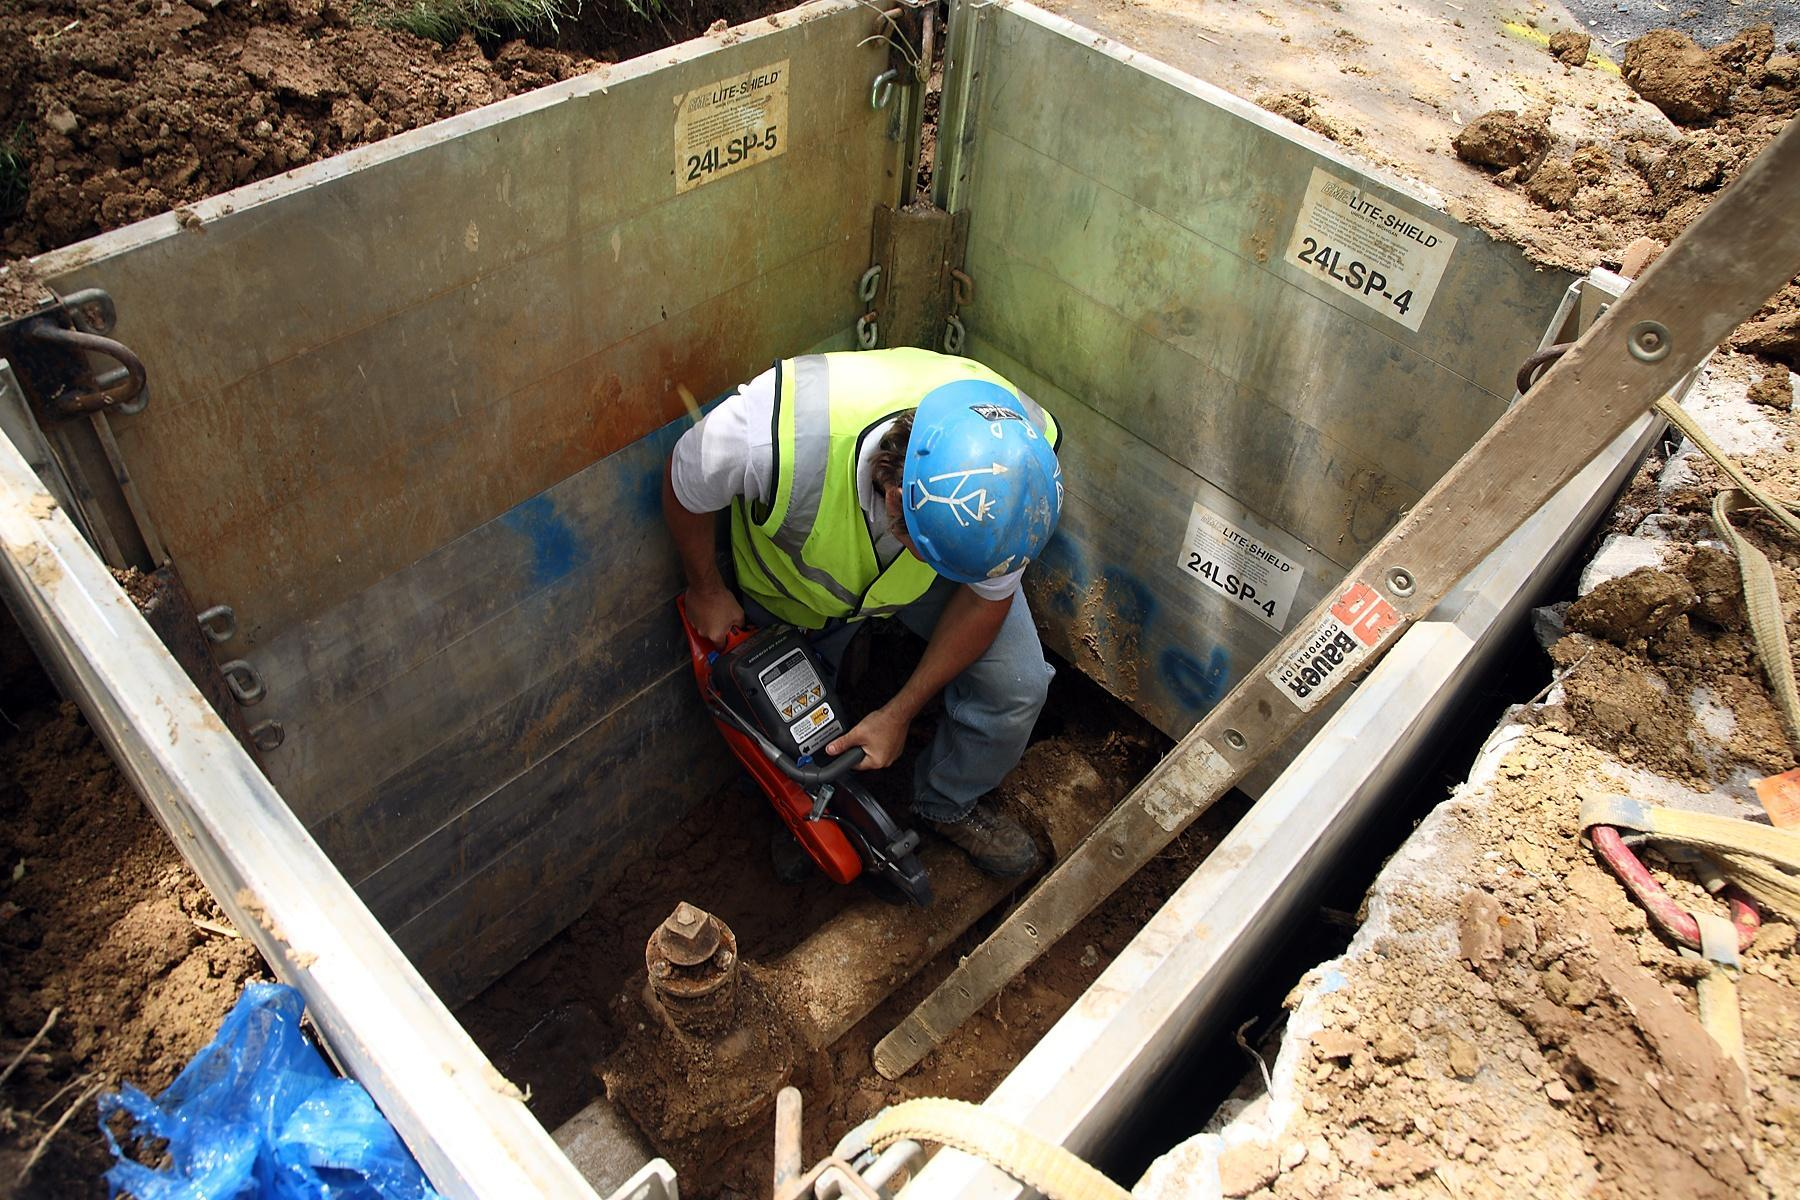helmet: (902, 374, 1061, 593)
person: (666, 328, 1071, 822)
